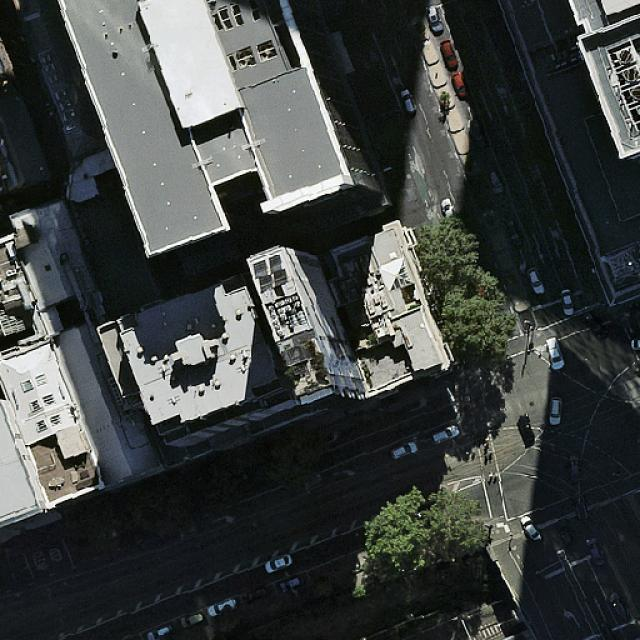Bike-Symbols: (366, 49, 383, 65), (424, 206, 436, 221), (409, 160, 418, 173)
